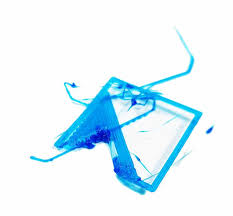fail: (22, 18, 218, 198)
